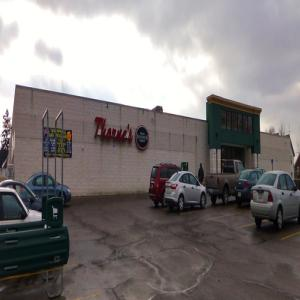Vehicle-registration-plate: (259, 193, 264, 199)
